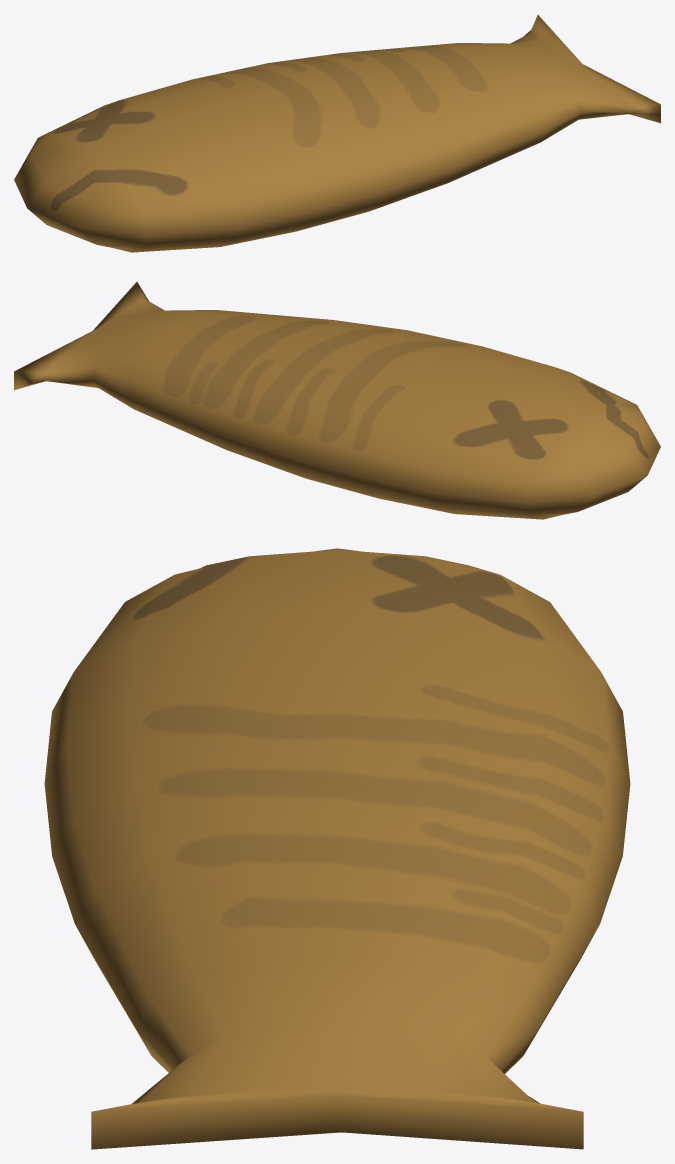
The model's file is Fish_01.fbx.
3 views of the same model, one above another, from view 1: azimuth 30°, elevation 25°; view 2: azimuth 150°, elevation 25°; view 3: azimuth 270°, elevation 25° (orthographic). The views are drawn at different scales.
Visible parts, largest first — view 1: pCylinder1; view 2: pCylinder1; view 3: pCylinder1.
Boxes of the visible parts, <box> form: pCylinder1: <box>14,15,660,252</box>; pCylinder1: <box>14,282,660,519</box>; pCylinder1: <box>44,548,630,1149</box>.
Size of the model in its own units: 16.11 by 2.91 by 7.14.
